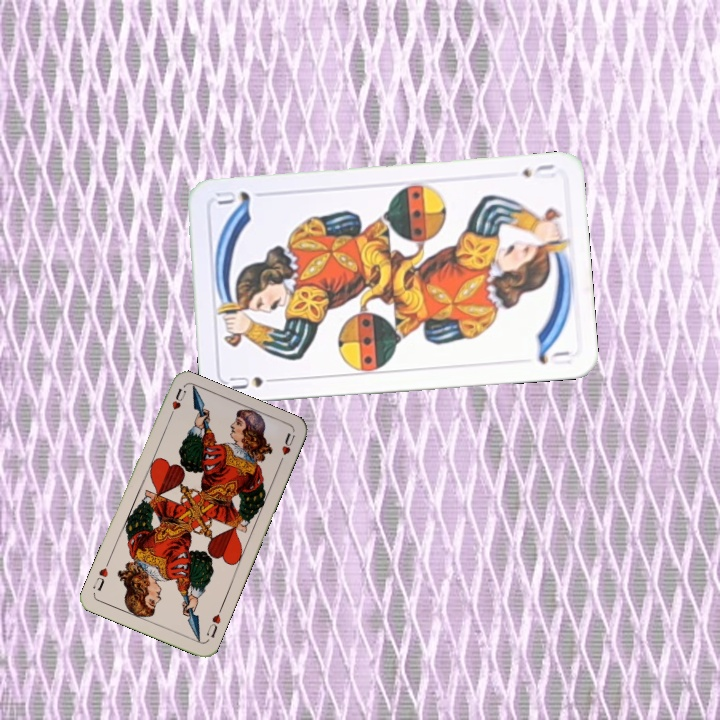HU: (164, 384, 189, 423), (202, 604, 224, 640)
SU: (225, 372, 283, 392), (517, 160, 558, 182)
